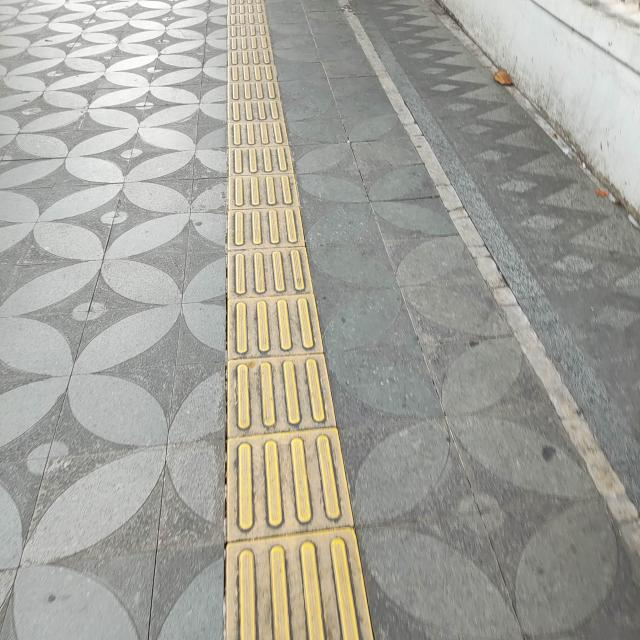lurus: (216, 6, 341, 640)
